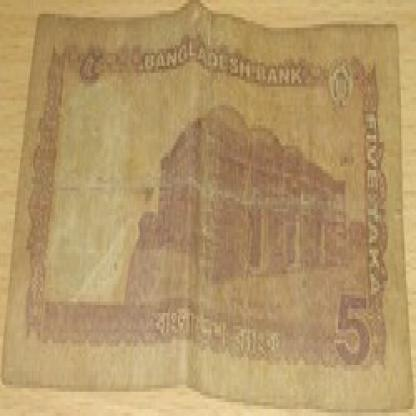Five Taka: (361, 100, 389, 302), (334, 288, 373, 385), (75, 42, 101, 94)
